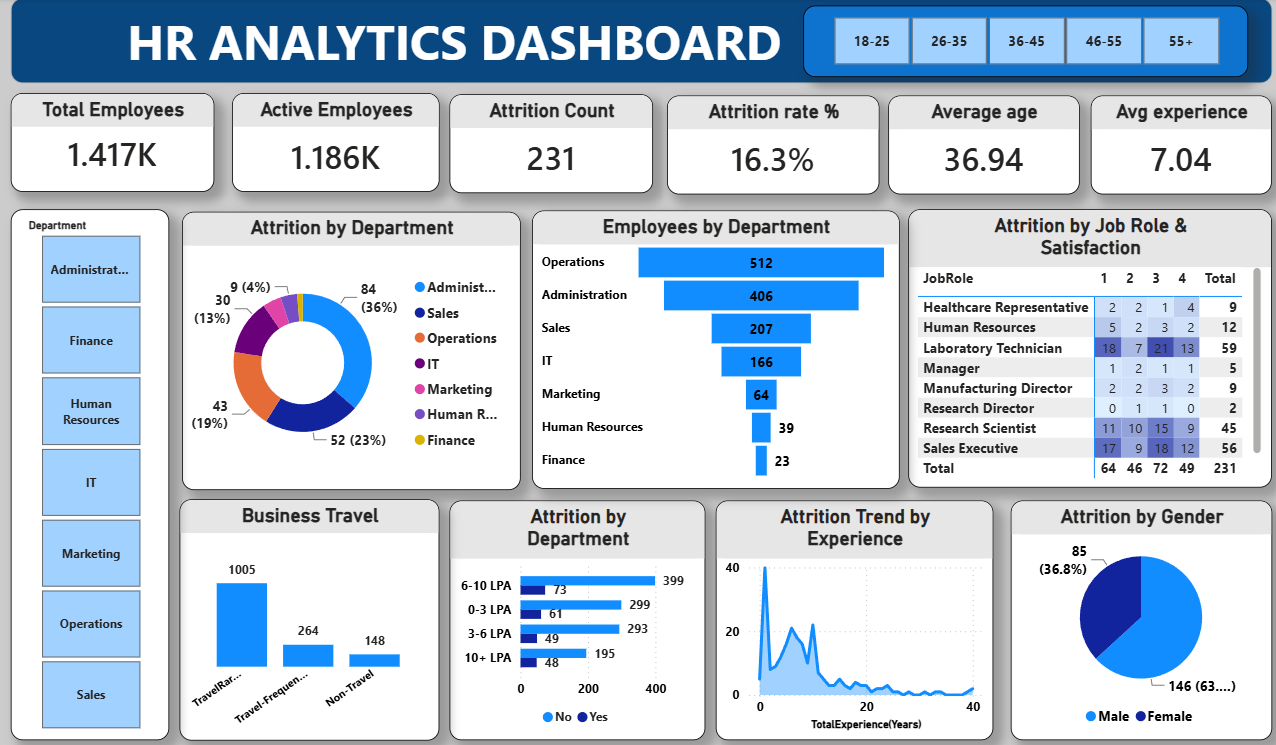

Layout of this report page (visuals, bound fields, positions):
{"tool":"powerbi","page":{"name":"Page 1","canvas":[1281,789],"ordinal":0},"visuals":[{"type":"textbox","box":[13.7,0,1254.2,85.1],"z":0},{"type":"cardVisual","title":"Total Employees","fields":{"Data":["CountNonNull(HR_Analytics-4.EmpID)"]},"box":[13.7,94.5,202.6,98.2],"z":1000},{"type":"cardVisual","title":"Active Employees","fields":{"Data":["Sum(HR_Analytics-4.EmployeeCount)"]},"box":[233.7,94.5,206.3,98.2],"z":2000},{"type":"cardVisual","title":"Attrition Count","fields":{"Data":["Sum(HR_Analytics-4.Attritioncount)"]},"box":[449.9,95.7,202.6,98.2],"z":3000},{"type":"cardVisual","title":"Attrition rate %","fields":{"Data":["HR_Analytics-4.Attrition rate %"]},"box":[666.2,96.9,211.3,98.2],"z":4000},{"type":"cardVisual","title":"Average age","fields":{"Data":["Avg(HR_Analytics-4.Age)"]},"box":[886.2,96.9,190.2,98.2],"z":5000},{"type":"cardVisual","title":"Avg experience","fields":{"Data":["Avg(HR_Analytics-4.YearsatCompany)"]},"box":[1087.6,96.9,180.2,98.2],"z":6000},{"type":"donutChart","title":"Attrition by Department","fields":{"Category":["HR_Analytics-4.Department"],"Y":["Sum(HR_Analytics-4.Attritioncount)"]},"box":[184,212.5,336.8,277.2],"z":7000},{"type":"pivotTable","title":"Attrition by Job Role & Satisfaction","fields":{"Rows":["HR_Analytics-4.JobRole"],"Columns":["HR_Analytics-4.JobSatisfaction"],"Values":["Sum(HR_Analytics-4.Attritioncount)"]},"box":[906.1,210.1,361.7,277.2],"z":8000},{"type":"clusteredBarChart","title":"Attrition by Department","fields":{"Category":["HR_Analytics-4.SalarySlab"],"Y":["CountNonNull(HR_Analytics-4.EmpID)"],"Series":["HR_Analytics-4.Attrition"]},"box":[449.9,499.7,254.8,238.6],"z":9000},{"type":"clusteredColumnChart","title":"Business Travel","fields":{"Y":["Sum(HR_Analytics-4.EmployeeCount)"],"Category":["HR_Analytics-4.BusinessTravel"]},"box":[181.5,498.4,258.5,239.9],"z":10000},{"type":"pieChart","title":"Attrition by Gender","fields":{"Y":["Sum(HR_Analytics-4.Attritioncount)"],"Category":["HR_Analytics-4.Gender"]},"box":[1008,499.7,259.8,238.6],"z":11000},{"type":"areaChart","title":"Attrition Trend by Experience","fields":{"Category":["HR_Analytics-4.TotalExperience(Years)"],"Y":["Sum(HR_Analytics-4.Attritioncount)"]},"box":[714.7,499.7,275.9,238.6],"z":12000},{"type":"funnel","title":"Employees by Department","fields":{"Y":["CountNonNull(HR_Analytics-4.EmpID)"],"Category":["HR_Analytics-4.Department"]},"box":[532,211.3,365.4,277.2],"z":13000},{"type":"slicer","fields":{"Values":["HR_Analytics-4.Department"]},"box":[13.7,210.1,157.9,528.2],"z":14000},{"type":"slicer","fields":{"Values":["HR_Analytics-4.AgeGroup"]},"box":[801.7,7.5,442.5,70.8],"z":15000}]}

Visuals, with their boxes on the page's 1281x789 design canvas (x1, y1, x2, y2). These are canvas units, not pixel positions in the 1276x745 screenshot, which may show the page scaled, cropped or inside an application window:
textbox: {"left": 14, "top": 0, "right": 1268, "bottom": 85}
"Total Employees" cardVisual: {"left": 14, "top": 94, "right": 216, "bottom": 193}
"Active Employees" cardVisual: {"left": 234, "top": 94, "right": 440, "bottom": 193}
"Attrition Count" cardVisual: {"left": 450, "top": 96, "right": 652, "bottom": 194}
"Attrition rate %" cardVisual: {"left": 666, "top": 97, "right": 878, "bottom": 195}
"Average age" cardVisual: {"left": 886, "top": 97, "right": 1076, "bottom": 195}
"Avg experience" cardVisual: {"left": 1088, "top": 97, "right": 1268, "bottom": 195}
"Attrition by Department" donutChart: {"left": 184, "top": 212, "right": 521, "bottom": 490}
"Attrition by Job Role & Satisfaction" pivotTable: {"left": 906, "top": 210, "right": 1268, "bottom": 487}
"Attrition by Department" clusteredBarChart: {"left": 450, "top": 500, "right": 705, "bottom": 738}
"Business Travel" clusteredColumnChart: {"left": 182, "top": 498, "right": 440, "bottom": 738}
"Attrition by Gender" pieChart: {"left": 1008, "top": 500, "right": 1268, "bottom": 738}
"Attrition Trend by Experience" areaChart: {"left": 715, "top": 500, "right": 991, "bottom": 738}
"Employees by Department" funnel: {"left": 532, "top": 211, "right": 897, "bottom": 488}
slicer - HR_Analytics-4.Department: {"left": 14, "top": 210, "right": 172, "bottom": 738}
slicer - HR_Analytics-4.AgeGroup: {"left": 802, "top": 8, "right": 1244, "bottom": 78}
